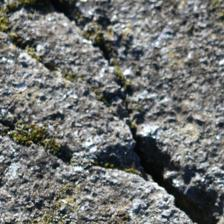Crack: (90, 49, 176, 185), (56, 38, 166, 108)
